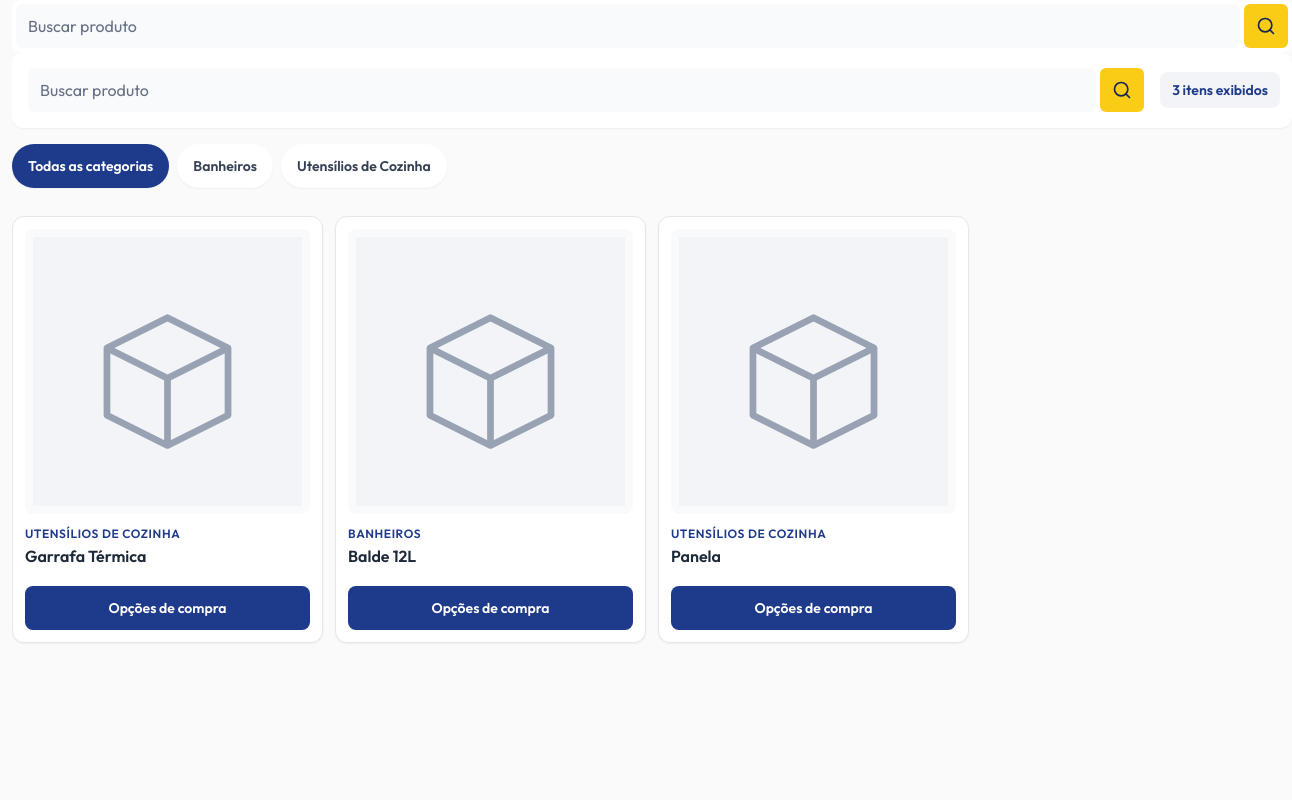
VitrineFilter › offers to clear the filters when nothing matches
Click the button "Banheiros": (225, 166) [177,144,273,188]
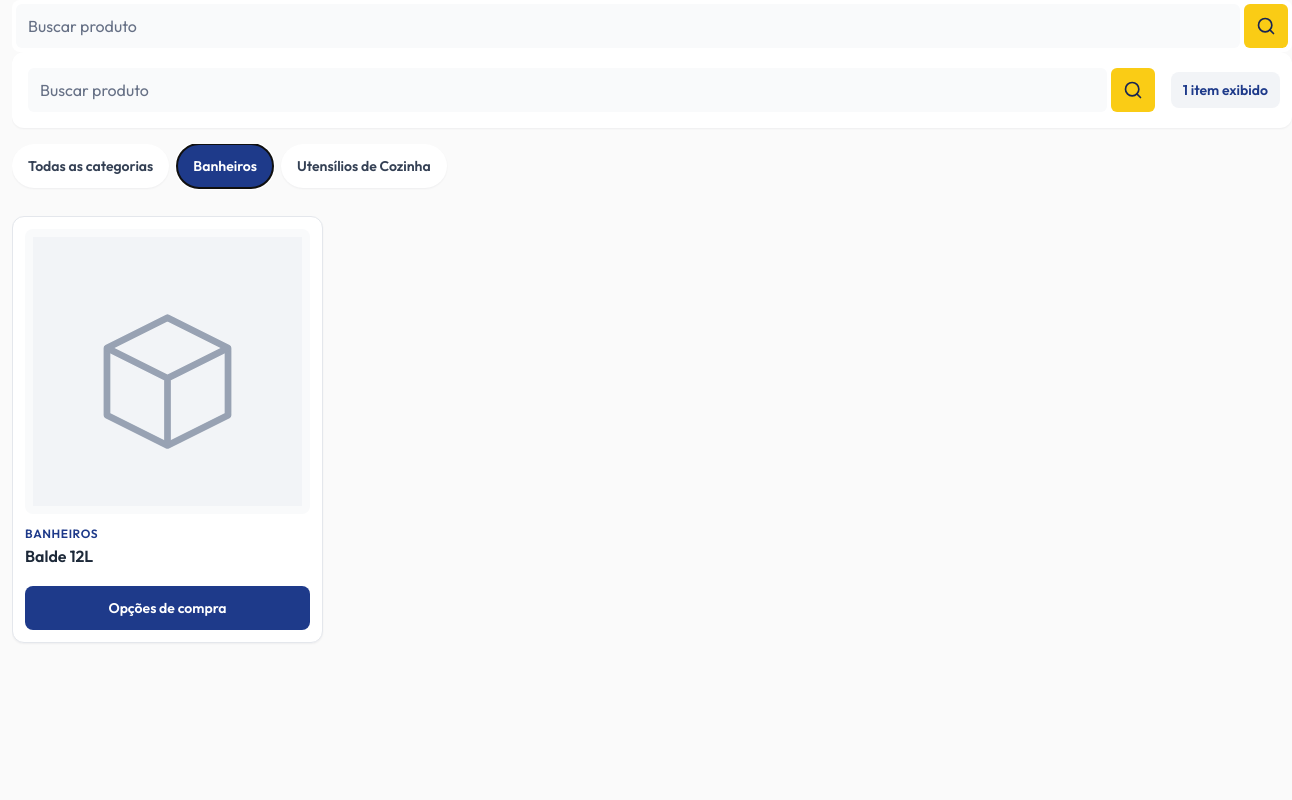
In the search field with placeholder "Buscar produto" next to "1 item exibido": (567, 90) [28,68,1107,112], type "panela"
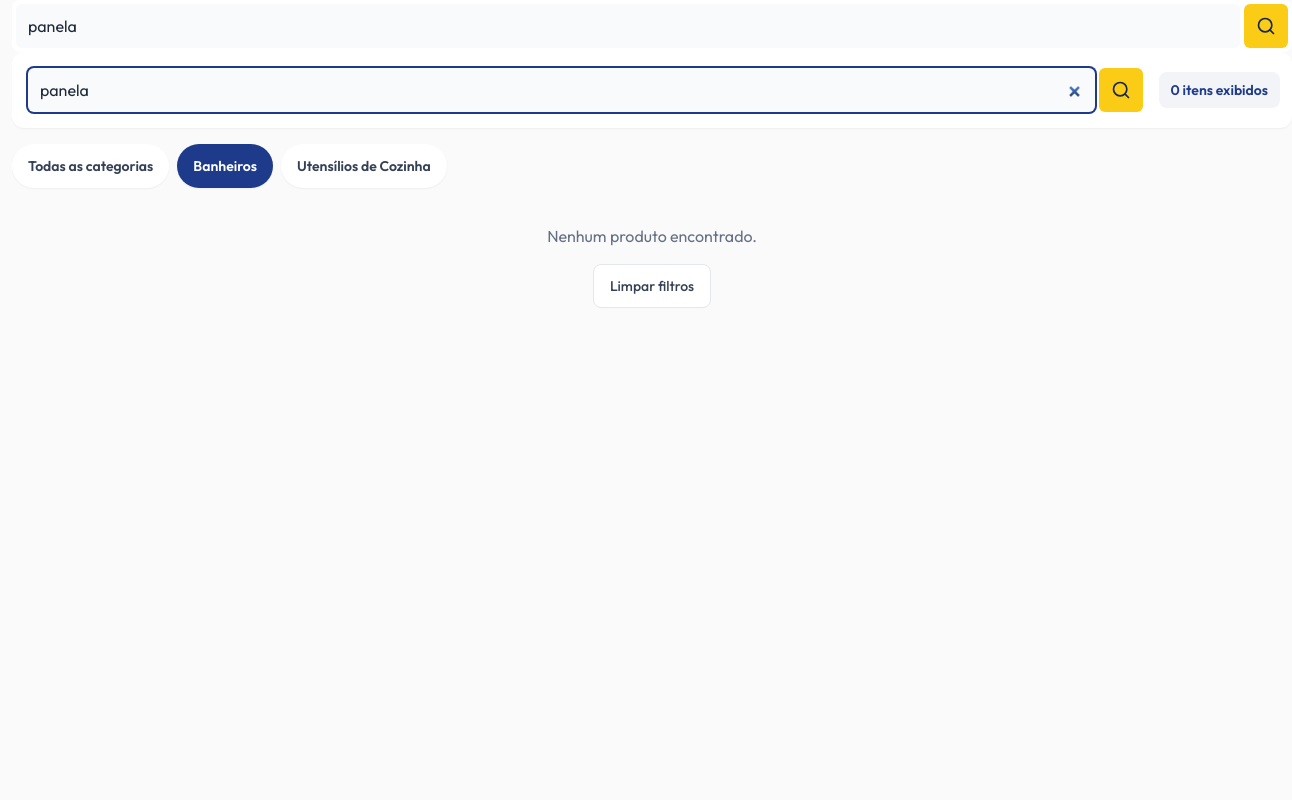
Expected: the text "Nenhum produto encontrado." is shown, [547,224,757,248]
Expected: the text "0 itens exibidos" is shown, [1159,72,1280,108]
Click the button "Limpar filtros": (652, 286) [593,264,711,308]
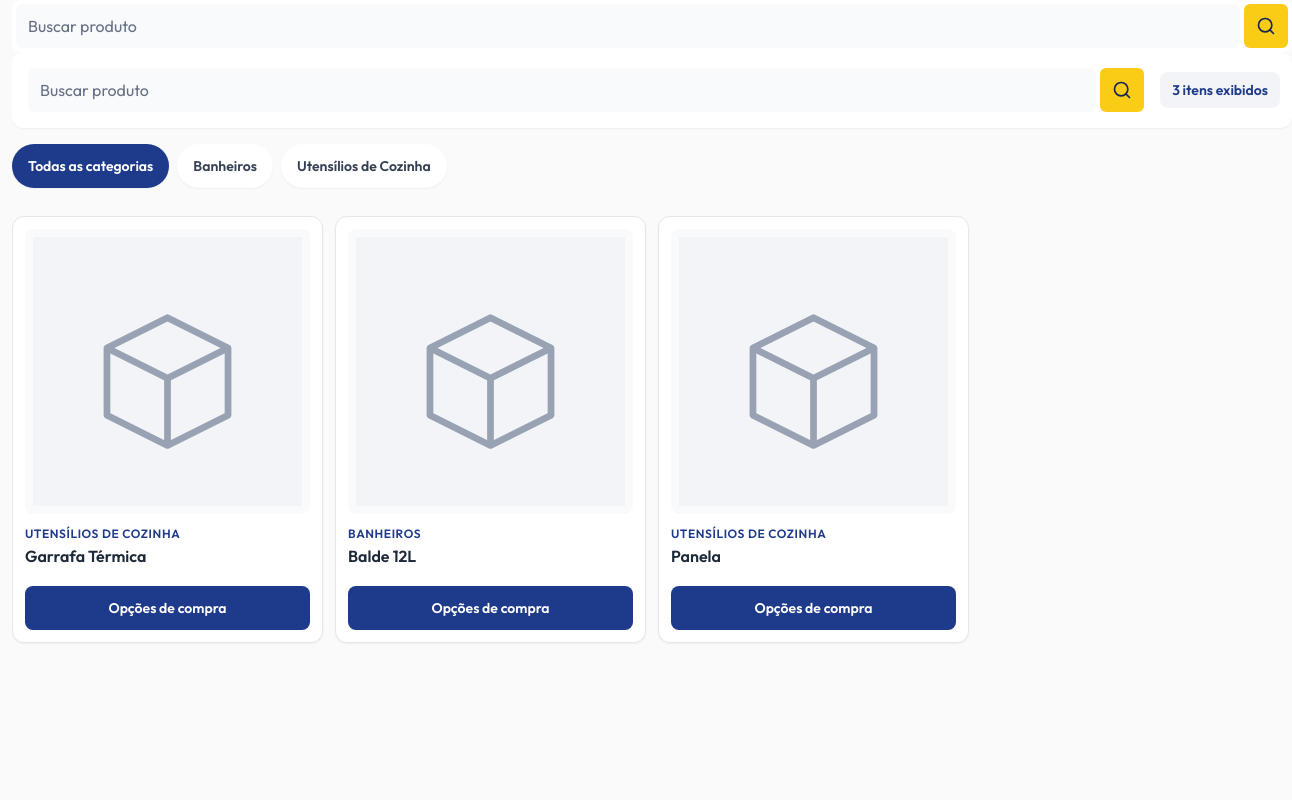
Expected: the 1st search field with placeholder "Buscar produto" is empty, [16,4,1240,48]
